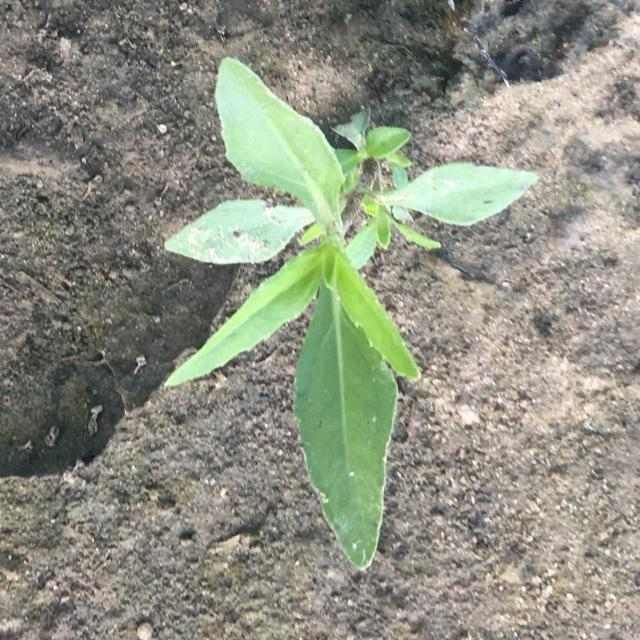Eclipta: (164, 57, 540, 571)
